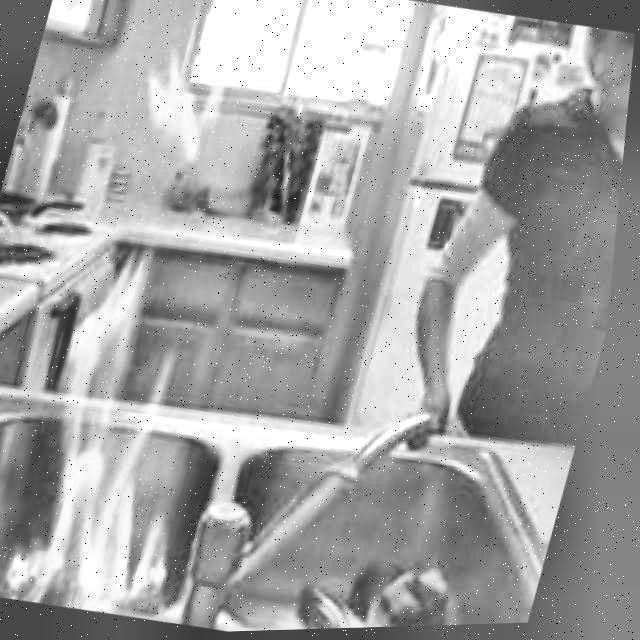Fire: (4, 226, 252, 623), (127, 47, 254, 181)
